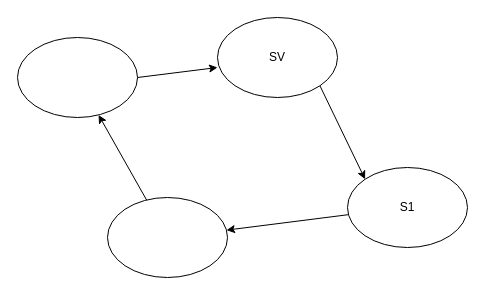
Some shapes in this 485 by 295 pixel diagram are drawn without their labels. Each missing label, with the centre of its shape:
"S2" goes at pixel 167 237.
"SD" goes at pixel 77 77.
